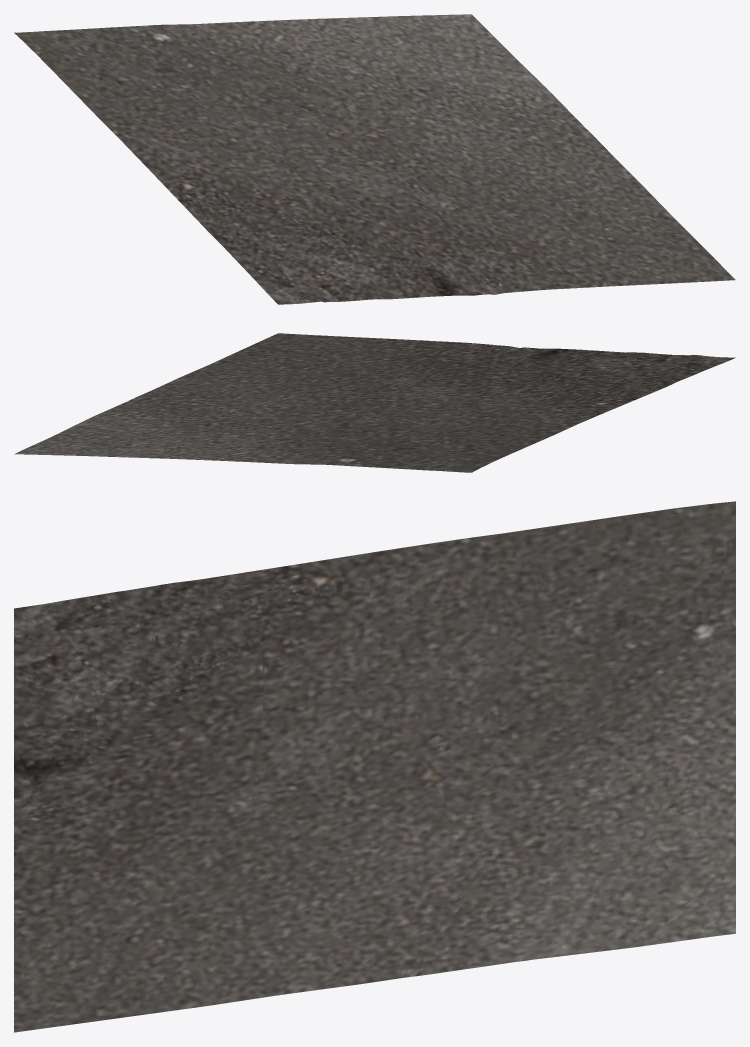
3 renders of one model, top to bottom at view 1: azimuth 30°, elevation 25°; view 2: azimuth 150°, elevation 25°; view 3: azimuth 270°, elevation 25°, orthographic. The views are drawn at different scales.
Bounding box in the file's own units: 1.67 × 0.5788 × 1.67.
3 materials, 3 textured.
